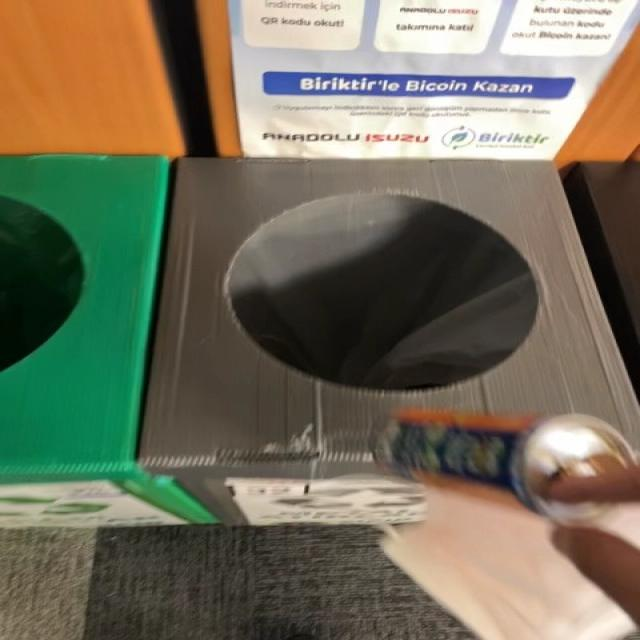bin: (139, 158, 639, 524)
metal: (375, 409, 640, 546)
